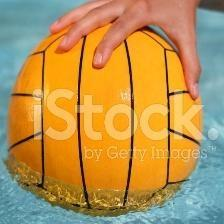Sports-Ball: (10, 16, 201, 215)
